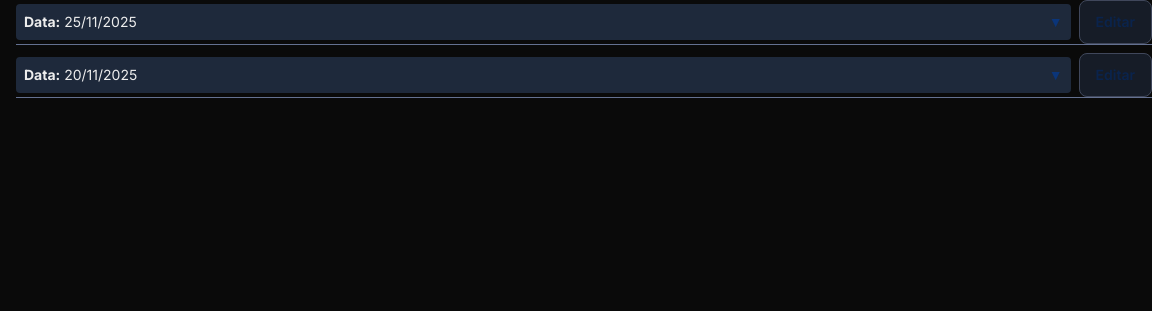
AttendancesDropdown › should expand attendance details when clicked
Find the first attendance button and click it
Click the button "Data: 25/11/2025 ▼". click: (42, 22)
box: [16,4,1070,40]
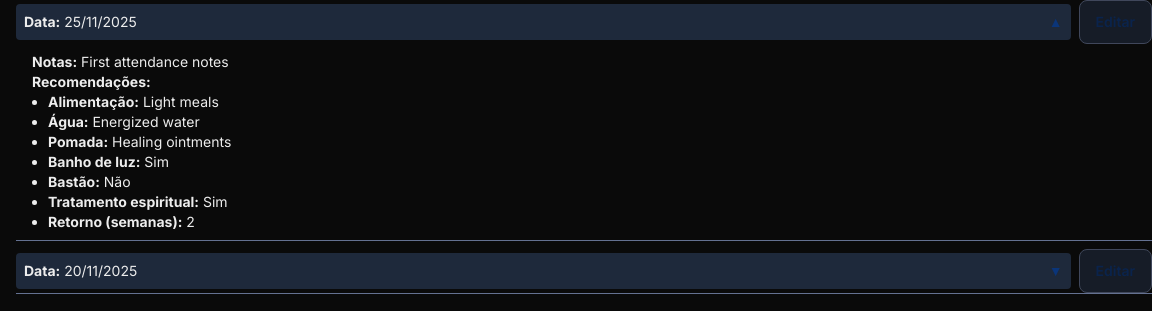
expect the text "▲" is shown: met, box [1049,12,1063,32]
expect the text "First attendance notes" is shown: met, box [81,53,229,70]
